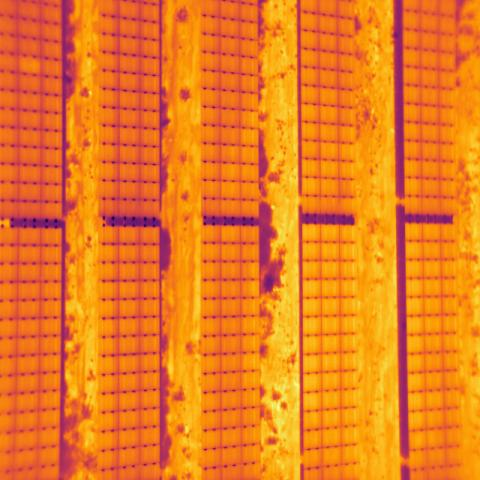fault: (18, 54, 42, 76)
